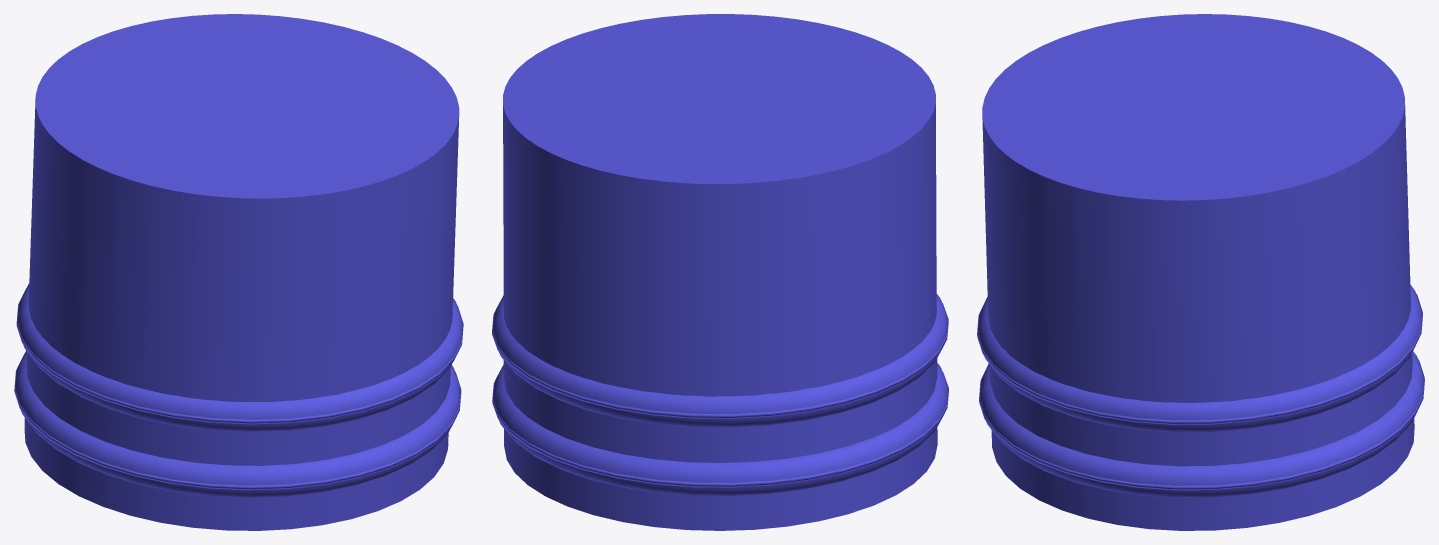
Rendered from bombilla189.obj.
The picture shows the model from 3 angles, left to right: view 1: azimuth 30°, elevation 25°; view 2: azimuth 150°, elevation 25°; view 3: azimuth 270°, elevation 25°; orthographic projection. The views are drawn at different scales.
Visible parts, largest first — view 1: Cylinder001, Cylinder004, Cylinder003, Cylinder002, Cylinder006; view 2: Cylinder001, Cylinder004, Cylinder003, Cylinder006, Cylinder002; view 3: Cylinder001, Cylinder004, Cylinder003, Cylinder002, Cylinder006.
Part boxes in pixels (x1=…): Cylinder001: x1=28, y1=14, x2=459, y2=401; Cylinder004: x1=14, y1=351, x2=461, y2=497; Cylinder003: x1=26, y1=352, x2=450, y2=465; Cylinder002: x1=16, y1=283, x2=463, y2=431; Cylinder006: x1=24, y1=418, x2=448, y2=530; Cylinder001: x1=503, y1=14, x2=936, y2=396; Cylinder004: x1=492, y1=363, x2=948, y2=496; Cylinder003: x1=503, y1=358, x2=937, y2=462; Cylinder006: x1=504, y1=428, x2=937, y2=530; Cylinder002: x1=492, y1=294, x2=948, y2=427; Cylinder001: x1=982, y1=14, x2=1410, y2=402; Cylinder004: x1=979, y1=351, x2=1424, y2=497; Cylinder003: x1=989, y1=353, x2=1412, y2=466; Cylinder002: x1=977, y1=284, x2=1422, y2=432; Cylinder006: x1=991, y1=418, x2=1414, y2=530.
Size of the model in its own units: 72.36 by 61.77 by 72.42.
